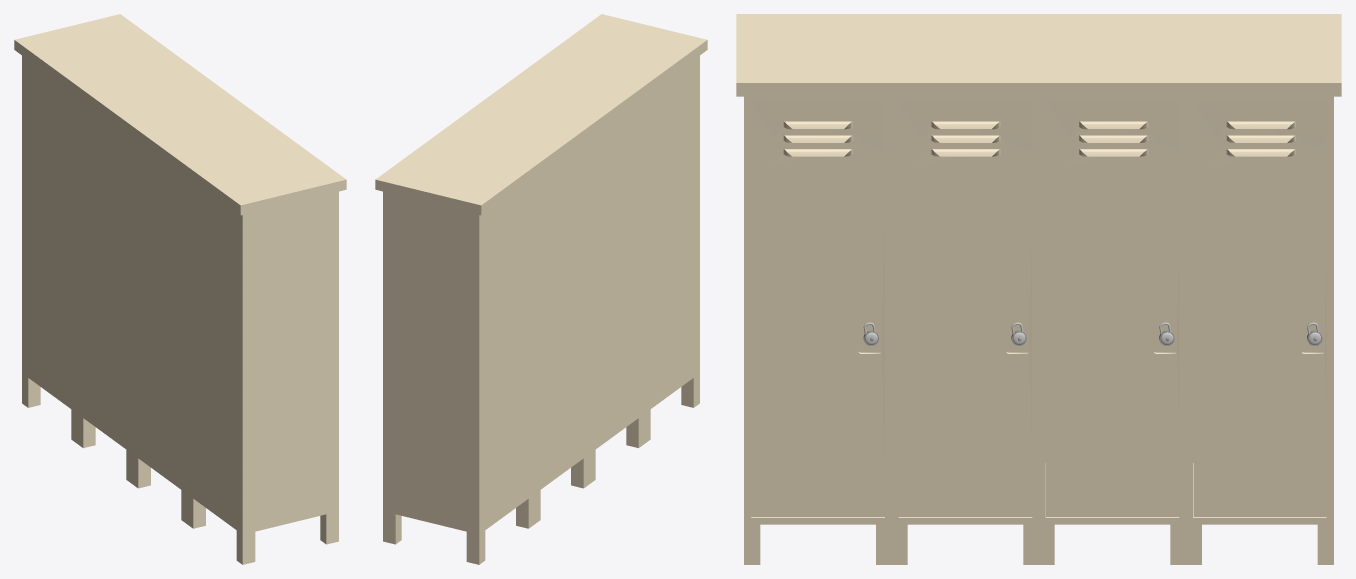
The model's file is Lockers.fbx.
3 renders of one model, left to right at view 1: azimuth 30°, elevation 25°; view 2: azimuth 150°, elevation 25°; view 3: azimuth 270°, elevation 25°, orthographic. The views are drawn at different scales.
Parts seen in each view (by area): view 1: Locker; view 2: Locker; view 3: Locker, Door.001, Door.002, Door.003, Door.
Boxes of the visible parts, box(x1,y1,x2,y2) form: Locker: box(14, 14, 346, 564); Locker: box(375, 14, 707, 564); Locker: box(736, 14, 1341, 564); Door.001: box(898, 100, 1032, 516); Door.002: box(1046, 100, 1179, 516); Door.003: box(1193, 100, 1326, 516); Door: box(751, 100, 884, 516).
Bounding box in the file's own units: 220 × 720 × 814.
